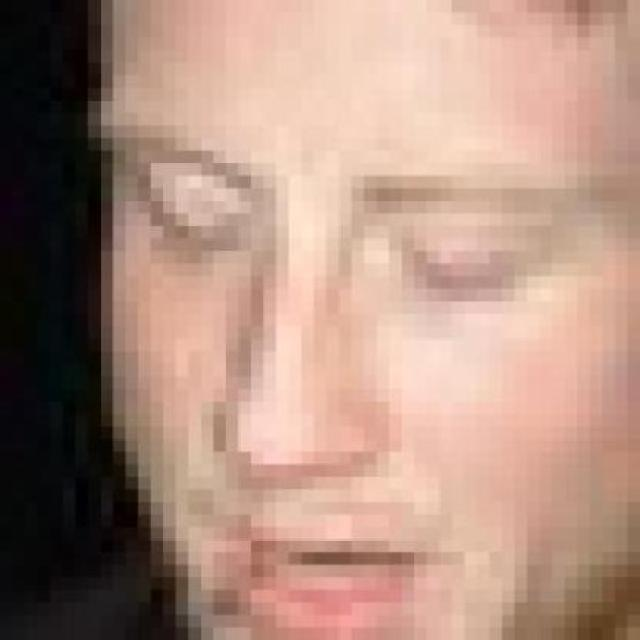drowsy: (398, 223, 518, 308), (155, 189, 247, 260)
